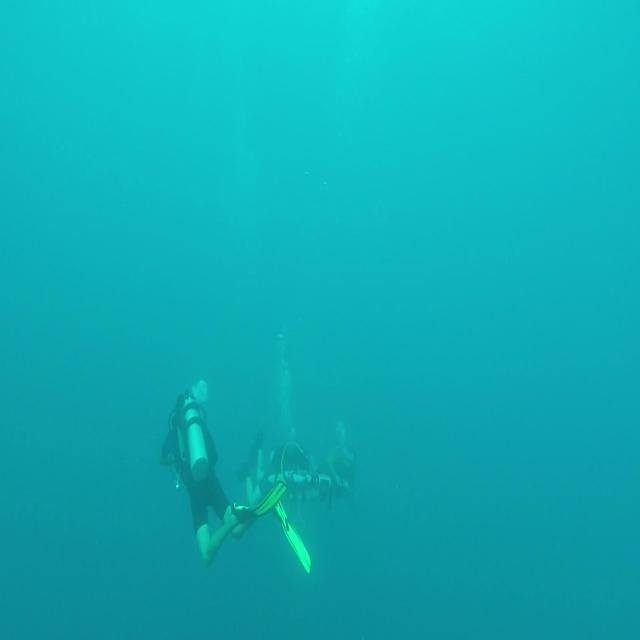human: (160, 378, 254, 567), (326, 419, 357, 506)
